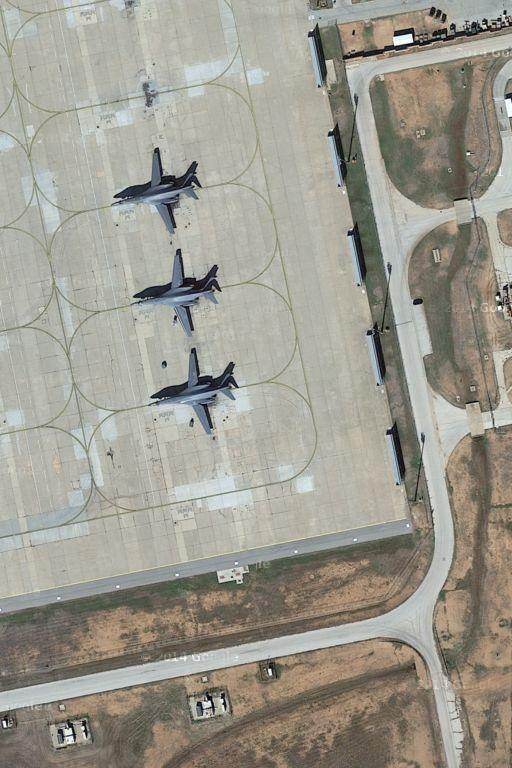B-1B: (131, 246, 226, 341), (145, 345, 240, 436), (108, 144, 206, 232)
